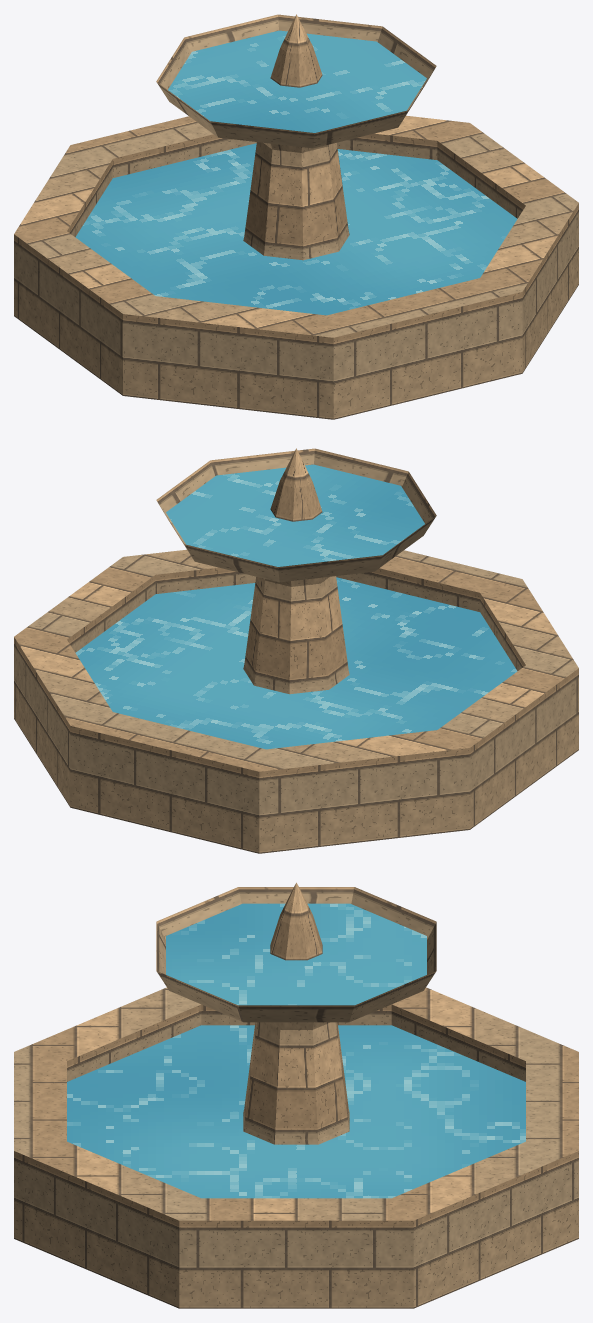
The model's file is fountain.glb.
3 views of the same model, one above another, from view 1: azimuth 30°, elevation 25°; view 2: azimuth 150°, elevation 25°; view 3: azimuth 270°, elevation 25° (orthographic). The views are drawn at different scales.
Parts seen in each view (by area): view 1: fountain; view 2: fountain; view 3: fountain.
Part boxes in pixels (x1,y1,x2,y2): fountain: [14, 14, 578, 419]; fountain: [14, 448, 578, 853]; fountain: [14, 882, 578, 1308].
Size of the model in its own units: 3.2 by 1.92 by 3.2.
2 materials, 2 textured.
